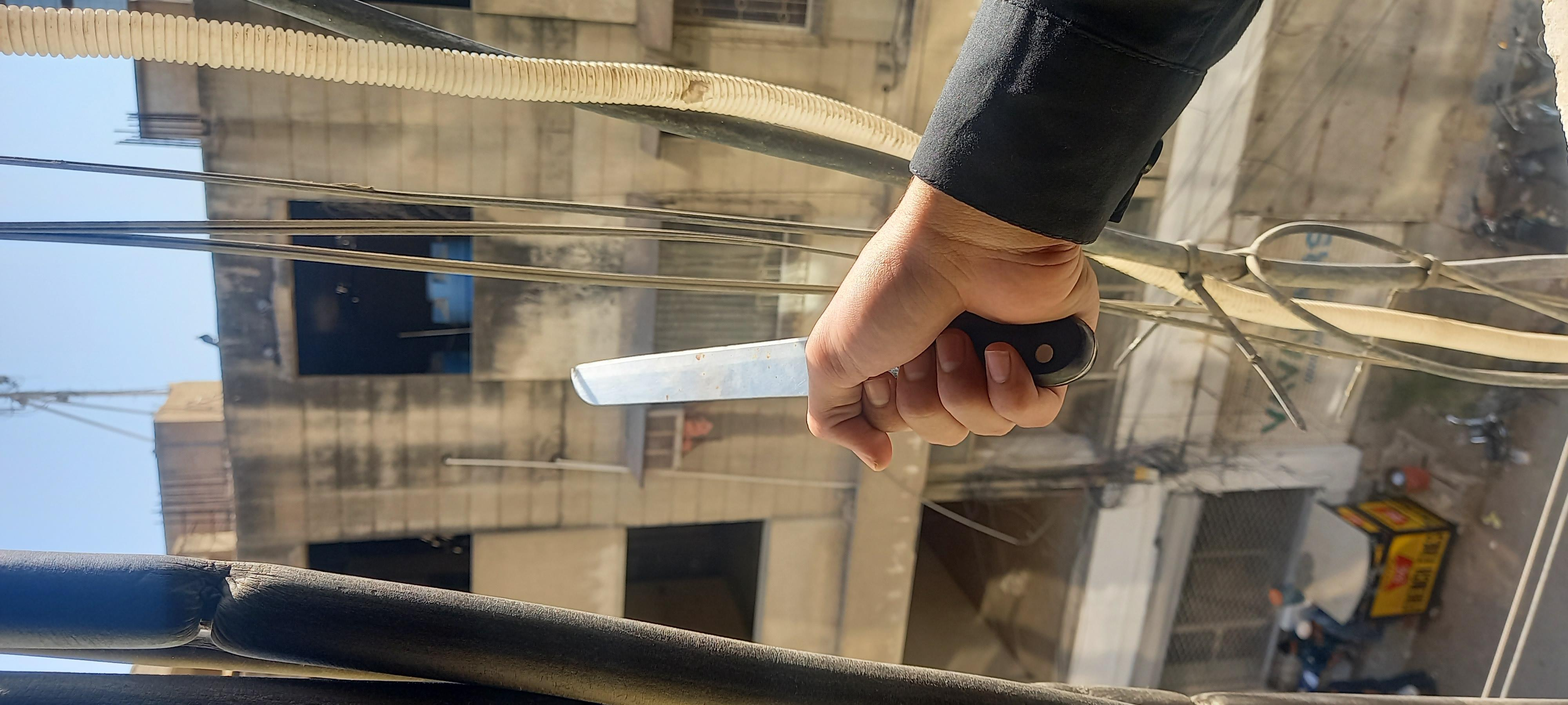knives: (632, 249, 882, 495)
